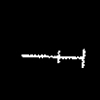double_crochet: (22, 50, 84, 67)
